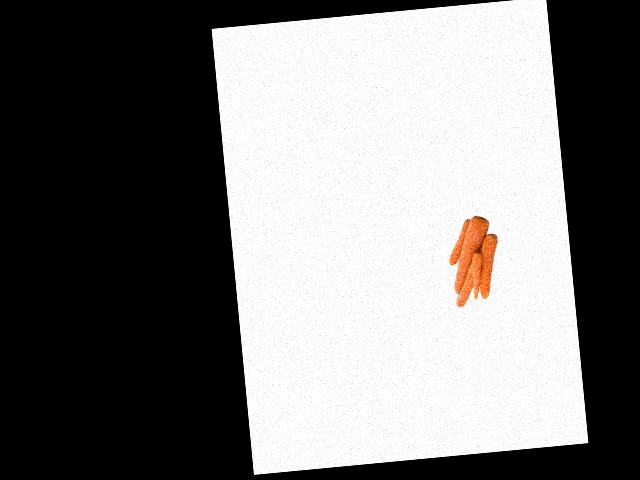carrot: (478, 230, 500, 301)
